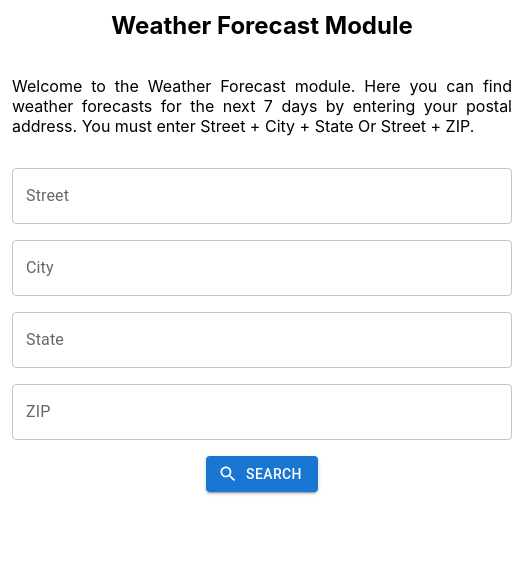
require state as a mandatory field
The width and height of the screenshot is (529, 575).
In the field labelled "Street": (262, 196) [12,168,512,224], type "4600 Silver Hill Rd"
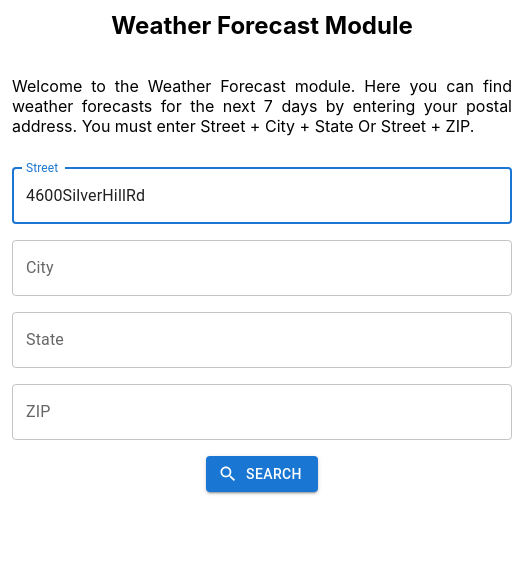
In the field labelled "City": (262, 268) [12,240,512,296], type "Washington"
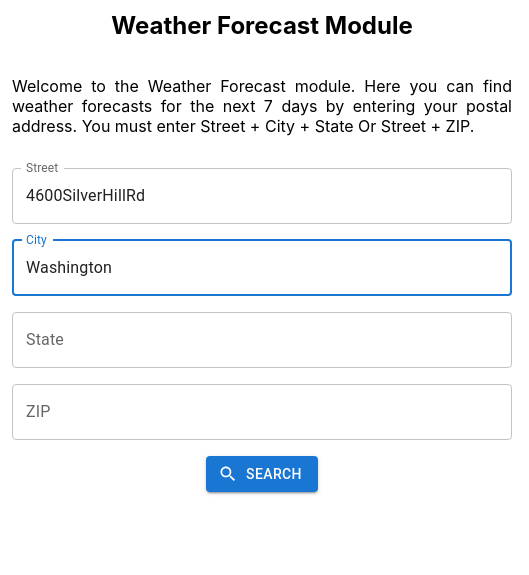
Click the button "Search": (262, 474) [206,456,318,492]
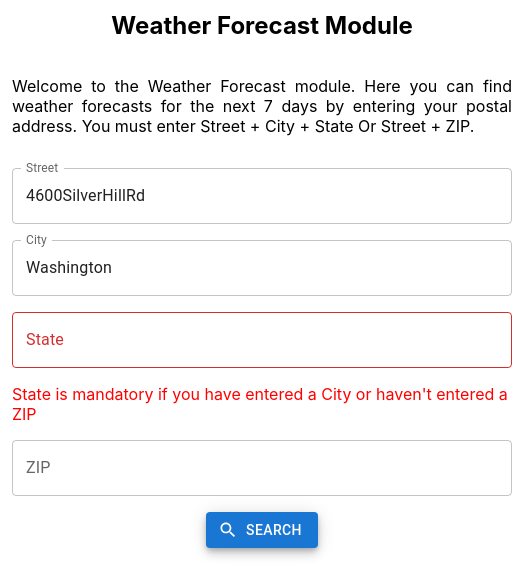
Expected: the text "State is mandatory if you have entered a City or haven't entered a ZIP" is shown, [12,384,512,424]
